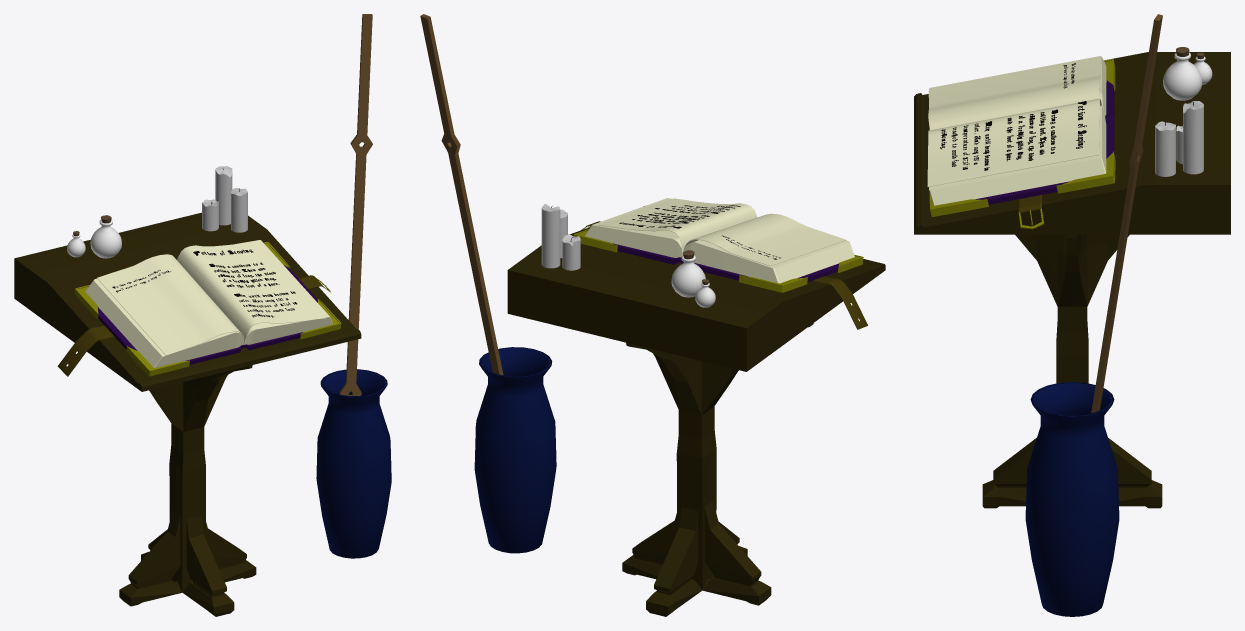
The model's file is Lectern.fbx.
3 renders of one model, left to right at view 1: azimuth 30°, elevation 25°; view 2: azimuth 150°, elevation 25°; view 3: azimuth 270°, elevation 25°, orthographic. The views are drawn at different scales.
Visible parts, largest first — view 1: LecternTop, LecternBase, Staff_Vase, LeftSinglePage, RightSinglePage, StackOfPages, Aang_s_Staff, BookHardCover, typeMesh2, fastener_strap, Tall_Candle, Large_Potion (+3 smaller); view 2: LecternTop, LecternBase, Staff_Vase, StackOfPages, LeftSinglePage, Aang_s_Staff, RightSinglePage, Tall_Candle, BookHardCover, Large_Potion, fastener_strap, typeMesh2 (+2 smaller); view 3: LecternTop, Staff_Vase, LecternBase, RightSinglePage, LeftSinglePage, StackOfPages, Aang_s_Staff, typeMesh2, Tall_Candle, Large_Potion, BookHardCover, Medium_Candle (+2 smaller).
Boxes of the visible parts, x1,y1,x2,y2 form: LecternTop: (14, 212, 361, 391); LecternBase: (119, 365, 256, 616); Staff_Vase: (316, 369, 391, 558); LeftSinglePage: (97, 254, 244, 355); RightSinglePage: (177, 241, 325, 342); StackOfPages: (85, 240, 332, 367); Aang_s_Staff: (339, 14, 372, 395); BookHardCover: (97, 266, 317, 364); typeMesh2: (209, 262, 297, 317); fastener_strap: (57, 325, 114, 376); Tall_Candle: (215, 166, 232, 225); Large_Potion: (90, 220, 121, 258); LecternTop: (507, 206, 885, 371); LecternBase: (622, 323, 813, 616); Staff_Vase: (474, 347, 556, 553); StackOfPages: (585, 198, 854, 283); LeftSinglePage: (683, 213, 846, 266); Aang_s_Staff: (420, 14, 503, 375); RightSinglePage: (598, 198, 757, 254); Tall_Candle: (541, 204, 560, 268); BookHardCover: (612, 243, 839, 282); Large_Potion: (671, 255, 705, 297); fastener_strap: (813, 276, 867, 329); typeMesh2: (632, 205, 740, 223); LecternTop: (914, 52, 1230, 234); Staff_Vase: (1025, 382, 1119, 616); LecternBase: (982, 234, 1162, 508); RightSinglePage: (927, 98, 1101, 186); LeftSinglePage: (928, 56, 1101, 130); StackOfPages: (929, 56, 1106, 205); Aang_s_Staff: (1091, 14, 1162, 412); typeMesh2: (940, 109, 1057, 170); Tall_Candle: (1183, 101, 1203, 174); Large_Potion: (1163, 52, 1202, 100); BookHardCover: (975, 80, 1114, 204); Medium_Candle: (1155, 121, 1175, 176).
Bounding box in the file's own units: 34.26 × 45.46 × 21.15.
